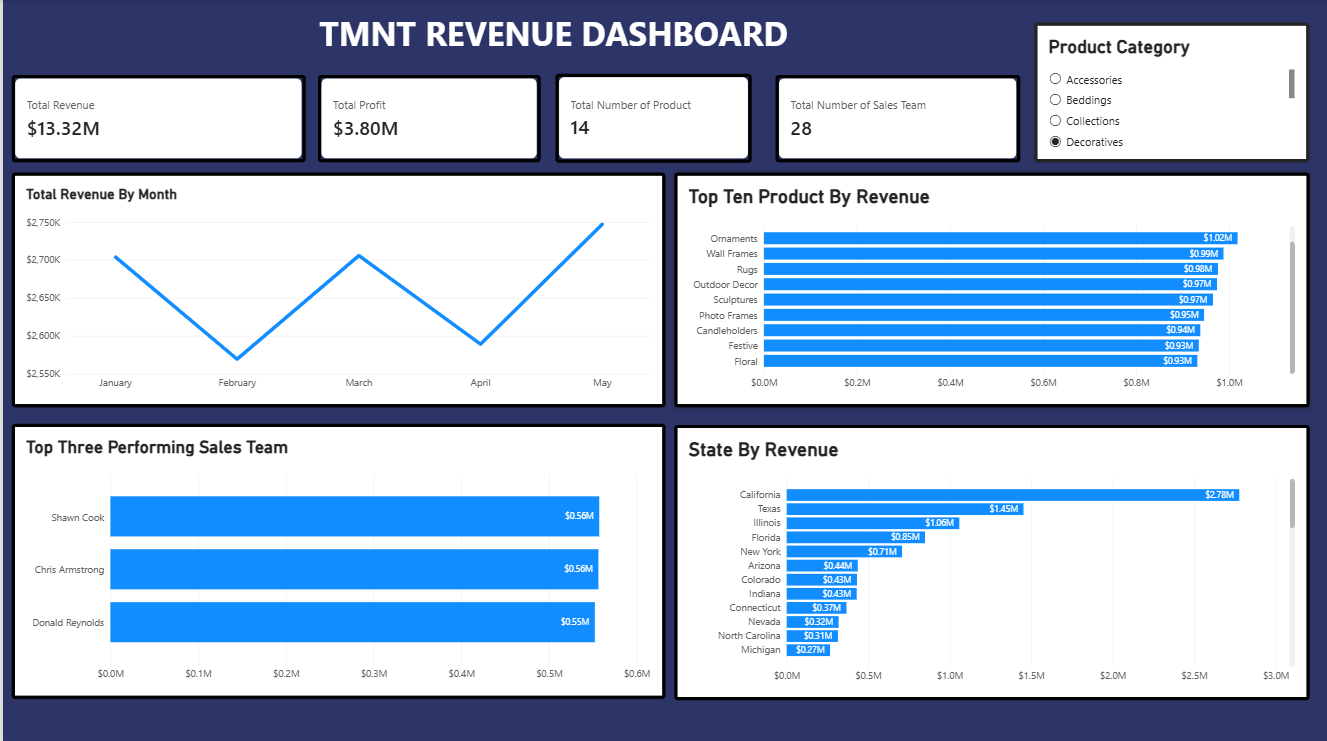

What the dashboard file says about the page in this screenshot:
{"tool":"powerbi","page":{"name":"Dashboard ","canvas":[1920,1080],"ordinal":4},"visuals":[{"type":"cardVisual","fields":{"Data":["Sales table.Total Revenue"]},"box":[12.7,108.6,425.3,126.7],"z":0},{"type":"cardVisual","fields":{"Data":["Sales table.Total Profit"]},"box":[456,108.6,322.1,126.7],"z":1000},{"type":"cardVisual","fields":{"Data":["Sales table.Total Number of Product"]},"box":[799.9,106.8,284.1,128.5],"z":2000},{"type":"cardVisual","fields":{"Data":["Sales table.Total Number of Sales Team"]},"box":[1118.4,108.6,354.7,126.7],"z":3000},{"type":"lineChart","title":"Total Revenue By Month","fields":{"Category":["Sales table.Sales Date.Variation.Date Hierarchy.Month"],"Y":["Sum(Sales table.Revenue)"]},"box":[12.7,249.7,946.5,340.2],"z":4000},{"type":"barChart","title":"Top Three Performing Sales Team","fields":{"Category":["Sales Team.Sales Team"],"Y":["Sum(Sales table.Revenue)"]},"box":[12,614,946,398],"z":5000},{"type":"barChart","title":"Top Ten Product By Revenue","fields":{"Category":["Products.Product Name"],"Y":["Sum(Sales table.Revenue)"]},"box":[972,250,920,340],"z":6000},{"type":"barChart","title":"State By Revenue","fields":{"Category":["Store Locations.state"],"Y":["Sum(Sales table.Revenue)"]},"box":[972,616,920,398],"z":7000},{"type":"textbox","box":[457.8,14.5,973.6,79.6],"z":7001},{"type":"listSlicer","fields":{"Values":["Products.Product Category"]},"box":[1493,32.6,398.1,202.7],"z":7002}]}

Visuals, with their boxes in screenshot pixels (x1, y1, x2, y2), scaled from the page's 1920x1080 canvas onto the 1327x741 screenshot:
cardVisual - Sales table.Total Revenue: locate(9, 75, 303, 161)
cardVisual - Sales table.Total Profit: locate(315, 75, 538, 161)
cardVisual - Sales table.Total Number of Product: locate(553, 73, 749, 161)
cardVisual - Sales table.Total Number of Sales Team: locate(773, 75, 1018, 161)
"Total Revenue By Month" lineChart: locate(9, 171, 663, 405)
"Top Three Performing Sales Team" barChart: locate(8, 421, 662, 694)
"Top Ten Product By Revenue" barChart: locate(672, 172, 1308, 405)
"State By Revenue" barChart: locate(672, 423, 1308, 696)
textbox: locate(316, 10, 989, 65)
listSlicer - Products.Product Category: locate(1032, 22, 1307, 161)
